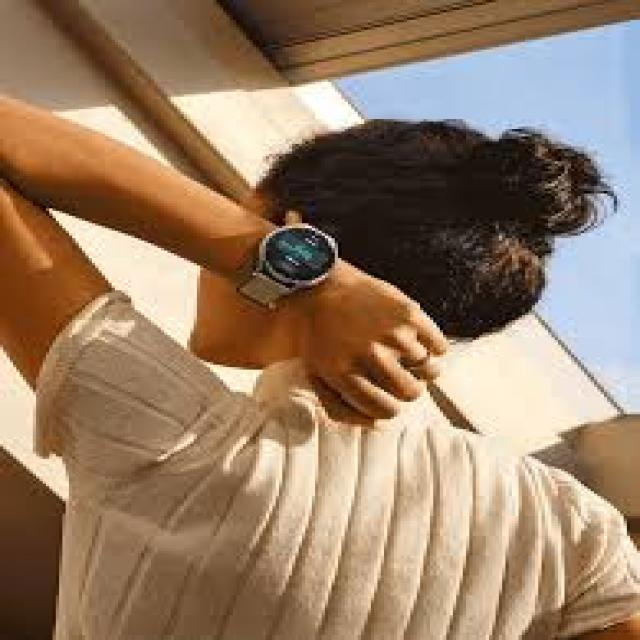watch: (247, 212, 337, 329)
